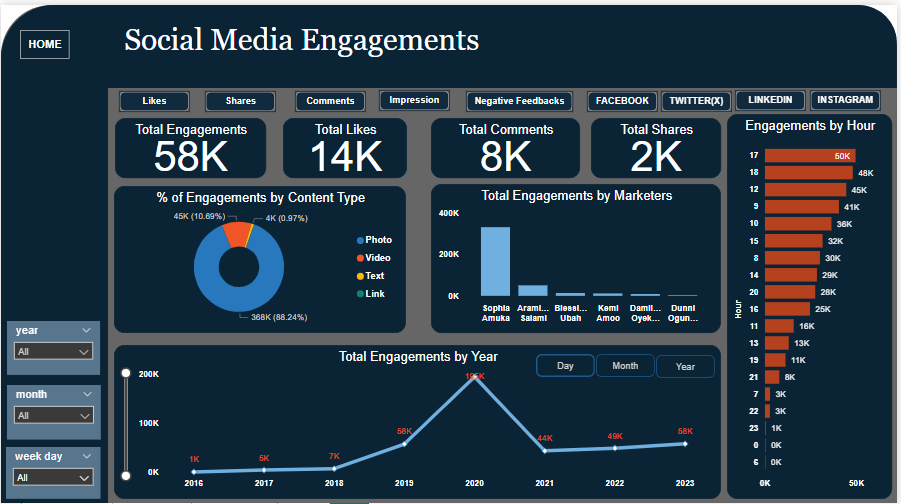

What the dashboard file says about the page in this screenshot:
{"tool":"powerbi","page":{"name":"Twitter","canvas":[1280,720],"ordinal":1},"visuals":[{"type":"shape","box":[0,0,1280.6,719.4],"z":0},{"type":"shape","box":[152.9,0,1127.1,118.6],"z":1000},{"type":"shape","box":[0,0,152.9,720],"z":2000},{"type":"kpi","title":"Total Engagements","fields":{"Indicator":["Sum(Twitter.Engagements)"],"TrendLine":["Twitter.year"]},"box":[162.9,161.4,215.7,85.7],"z":3000},{"type":"slicer","fields":{"Values":["Twitter.week day"]},"box":[7.6,631.3,134.6,74.4],"z":3000,"group":"g2"},{"type":"kpi","title":"Total Likes ","fields":{"Indicator":["Sum(Twitter.Likes)"],"TrendLine":["Twitter.year"]},"box":[402.9,161.4,177.1,85.7],"z":4000},{"type":"kpi","title":"Total Comments ","fields":{"Indicator":["Sum(Twitter.Comments)"],"TrendLine":["Twitter.year"]},"box":[614.3,161.4,212.9,85.7],"z":5000},{"type":"kpi","title":"Total Shares ","fields":{"Indicator":["Sum(Twitter.Shares)"],"TrendLine":["Twitter.year"]},"box":[842.9,161.4,185.7,85.7],"z":6000},{"type":"textbox","box":[170.1,17.9,559.7,76.1],"z":7000},{"type":"donutChart","fields":{"Category":["Twitter.Content Type"],"Y":["Sum(Twitter.Engagements)"]},"box":[161.4,258.6,417.1,210],"z":8000},{"type":"clusteredColumnChart","fields":{"Y":["Sum(Twitter.Engagements)"],"Category":["Twitter.Sent by"]},"box":[614.3,255.7,414.3,212.9],"z":9000},{"type":"lineChart","fields":{"Y":["Sum(Twitter.Engagements)"],"Category":["Twitter.Date.Variation.Date Hierarchy.Year"]},"box":[161.4,485.7,867.1,220],"z":10000},{"type":"clusteredBarChart","fields":{"Y":["Sum(Twitter.Engagements)"],"Category":["Twitter.Hour"]},"box":[1037.1,155.7,235.7,550],"z":11000},{"type":"group","id":"g1","title":"Group 1","box":[764.3,498.6,255.7,34.3],"z":12000},{"type":"group","id":"g2","title":"Group 2","box":[7.6,451.4,135.7,254.3],"z":13000},{"type":"actionButton","box":[1155.7,121.4,101.4,30],"z":14000,"group":"g3"},{"type":"actionButton","box":[168.6,122.9,101.4,30],"z":14000},{"type":"actionButton","box":[935.7,500,84.3,32.9],"z":14000,"group":"g1"},{"type":"actionButton","box":[291.4,122.9,101.4,30],"z":15000},{"type":"actionButton","box":[850,498.6,84.3,32.9],"z":15000,"group":"g1"},{"type":"slicer","fields":{"Values":["Twitter.month"]},"box":[9.1,542.4,134.2,78.5],"z":15000,"group":"g2"},{"type":"actionButton","box":[837.1,122.8,101.4,30],"z":16000,"group":"g3"},{"type":"actionButton","box":[420,122.9,101.4,30],"z":16000},{"type":"slicer","fields":{"Values":["Twitter.year"]},"box":[9.1,451.4,132.6,76.9],"z":16000,"group":"g2"},{"type":"actionButton","box":[764.3,498.6,84.3,32.9],"z":16000,"group":"g1"},{"type":"actionButton","box":[540,121.4,101.4,30],"z":17000},{"type":"actionButton","box":[942.8,122.8,101.4,30],"z":18000,"group":"g3"},{"type":"actionButton","box":[664.3,122.9,152.9,30],"z":18000},{"type":"group","id":"g3","title":"Group 3","box":[837.1,121.4,420,31.4],"z":19000},{"type":"actionButton","box":[1048.5,121.4,101.4,30],"z":19000,"group":"g3"},{"type":"actionButton","box":[27.1,35.7,71.4,41.4],"z":20000}]}

Visuals, with their boxes in screenshot pixels (x1, y1, x2, y2), scaled from the page's 1280x720 canvas onto the 901x504 screenshot:
shape: [0,0,900,503]
shape: [108,0,900,83]
shape: [0,0,108,503]
"Total Engagements" kpi: [115,113,266,173]
slicer - Twitter.week day: [5,442,100,494]
"Total Likes " kpi: [284,113,408,173]
"Total Comments " kpi: [432,113,582,173]
"Total Shares " kpi: [593,113,724,173]
textbox: [120,13,514,66]
donutChart - Twitter.Content Type x Sum(Twitter.Engagements): [114,181,407,328]
clusteredColumnChart - Sum(Twitter.Engagements) x Twitter.Sent by: [432,179,724,328]
lineChart - Sum(Twitter.Engagements) x Twitter.Date.Variation.Date Hierarchy.Year: [114,340,724,494]
clusteredBarChart - Sum(Twitter.Engagements) x Twitter.Hour: [730,109,896,494]
"Group 1" group: [538,349,718,373]
"Group 2" group: [5,316,101,494]
actionButton: [814,85,885,106]
actionButton: [119,86,190,107]
actionButton: [659,350,718,373]
actionButton: [205,86,276,107]
actionButton: [598,349,658,372]
slicer - Twitter.month: [6,380,101,435]
actionButton: [589,86,661,107]
actionButton: [296,86,367,107]
slicer - Twitter.year: [6,316,100,370]
actionButton: [538,349,597,372]
actionButton: [380,85,451,106]
actionButton: [664,86,735,107]
actionButton: [468,86,575,107]
"Group 3" group: [589,85,885,107]
actionButton: [738,85,809,106]
actionButton: [19,25,69,54]
